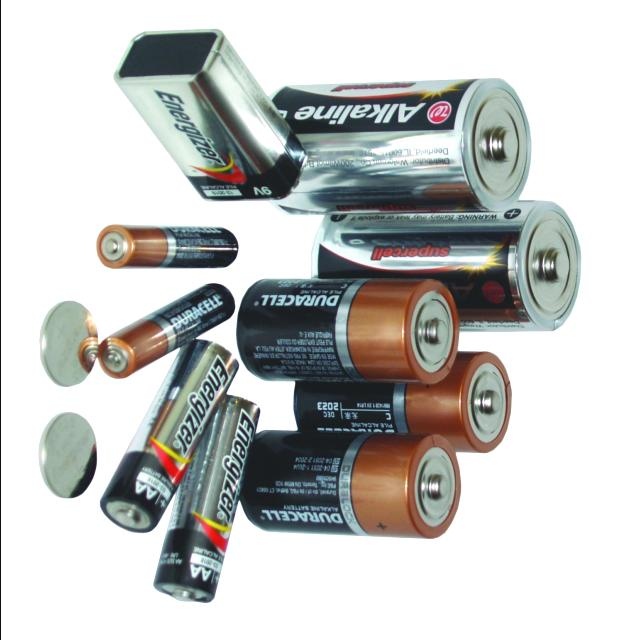AA: (97, 335, 240, 537), (150, 394, 265, 607)
AAA: (97, 282, 237, 382), (91, 222, 240, 273)
COIN: (35, 297, 101, 391), (35, 410, 98, 501)
